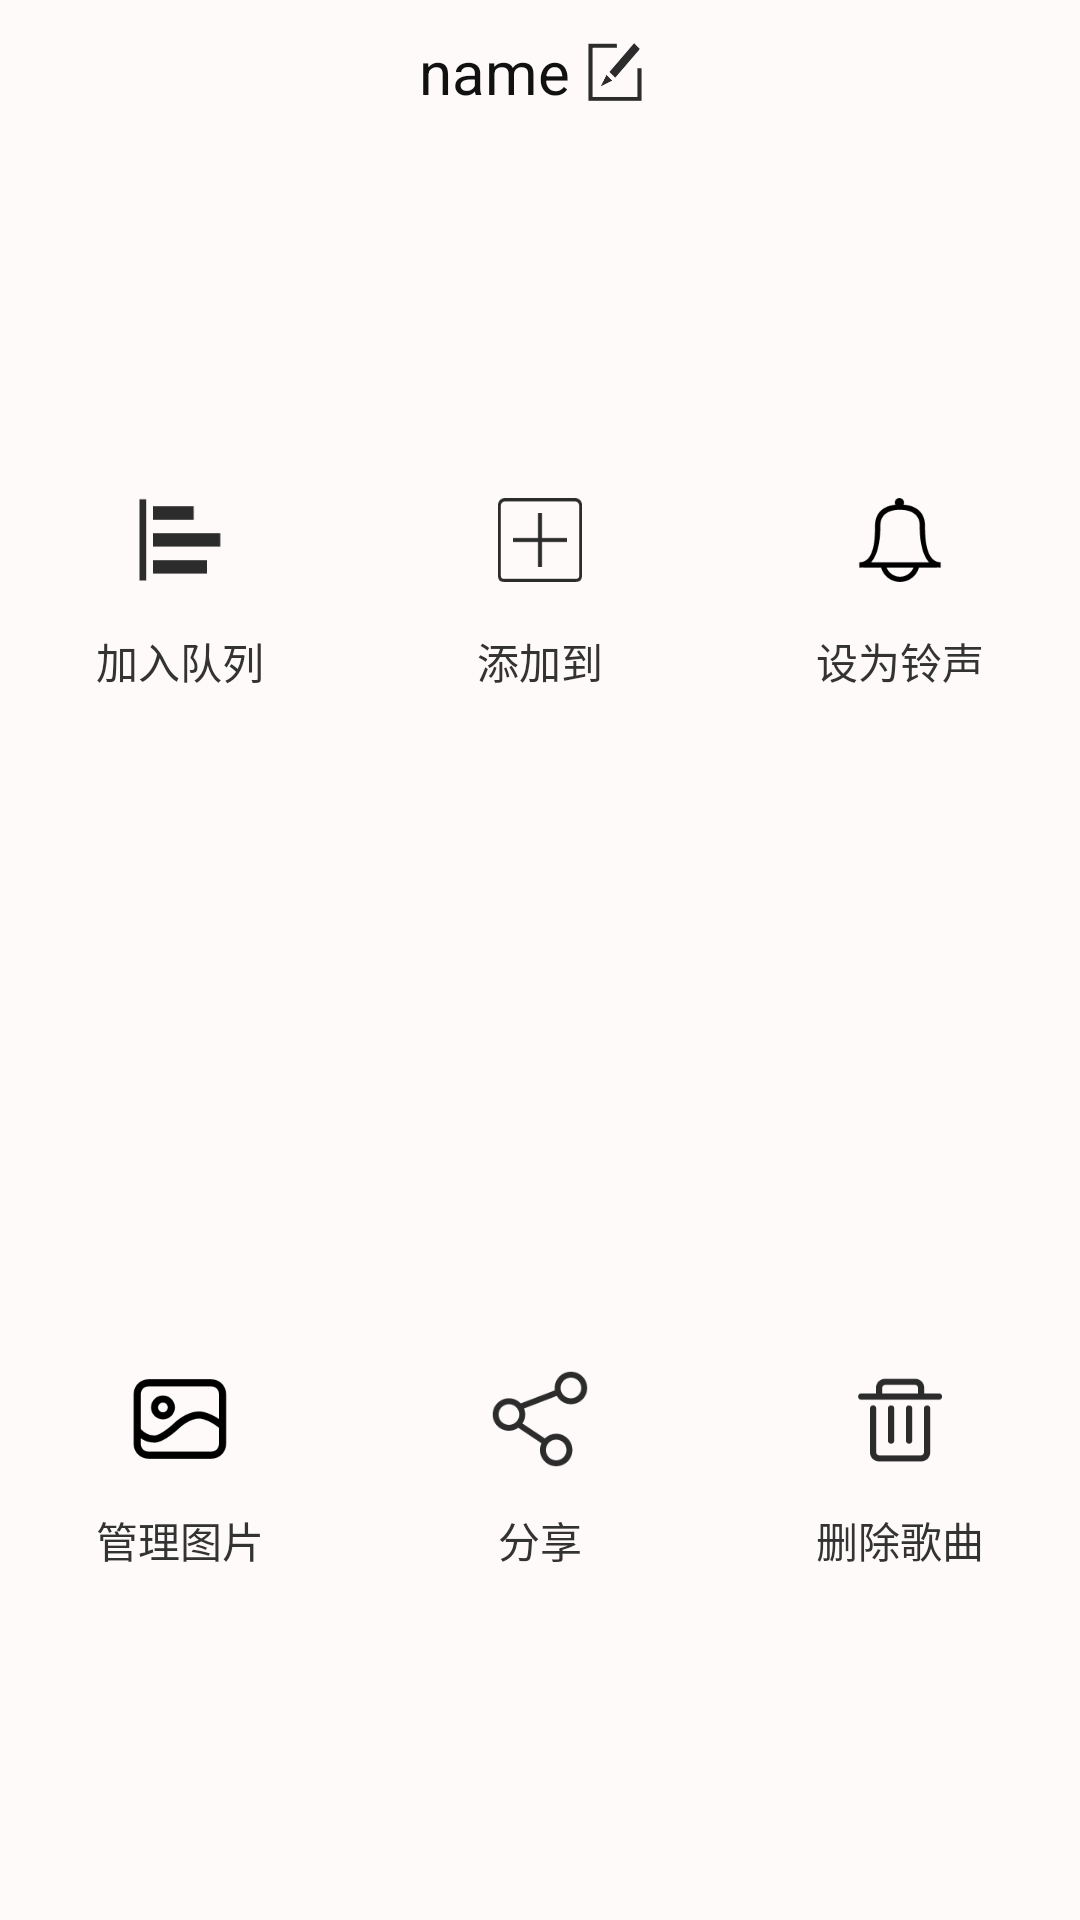

Icon click points for this 1080*1920 phone screenshot, format [x,y]:
add: [540,540]
bell: [900,540]
delete: [900,1420]
edit: [615,72]
list: [180,540]
photo: [180,1419]
share: [540,1419]
